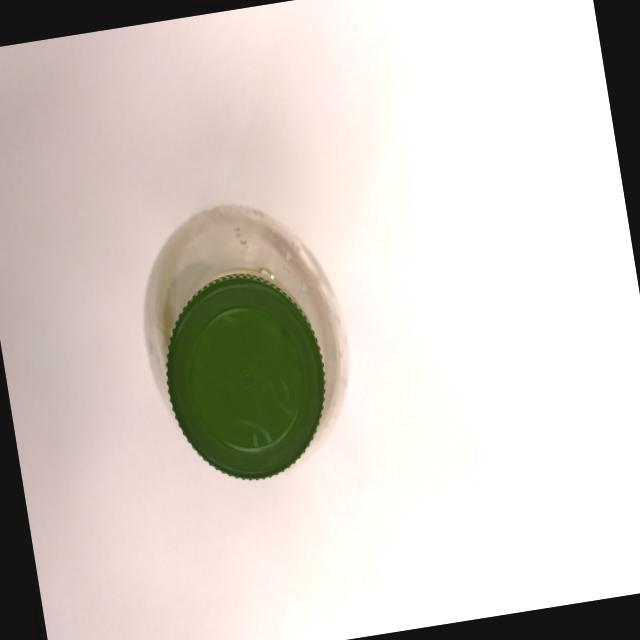plastic: (130, 241, 351, 506)
